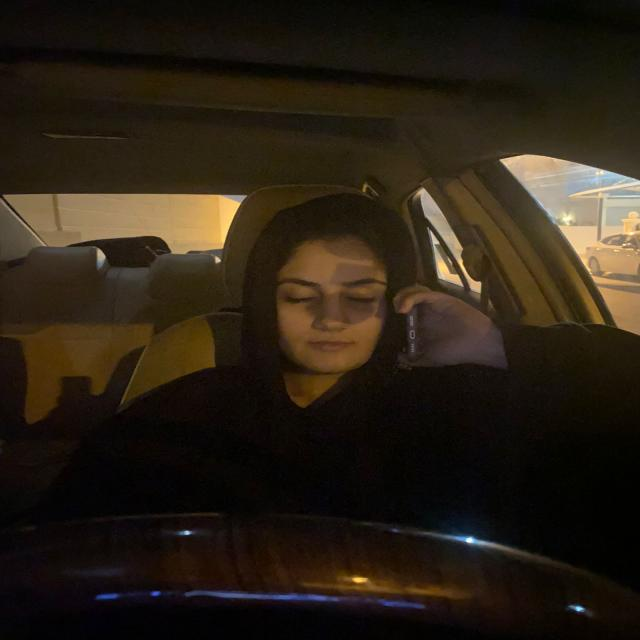mobile: (395, 308, 429, 362)
person: (260, 202, 389, 370)
